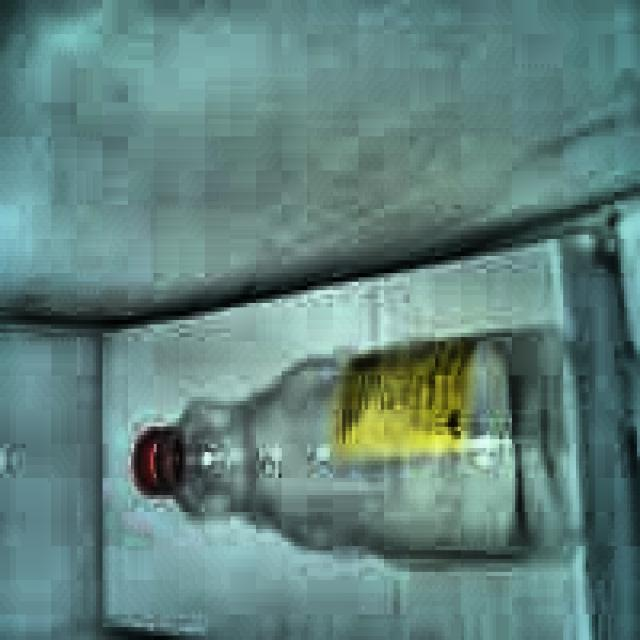Bottles: (115, 324, 603, 576)
